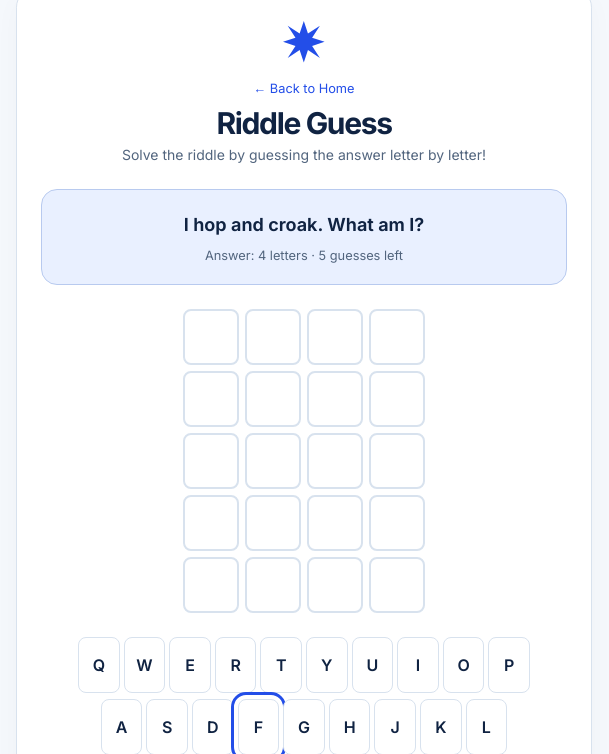
it: Riddle Guess keyboard integration › supports physical letters after choosing an on-screen key
(page scrolled)
Click the button "F".
click(258, 727)  # box [238,699,279,753]
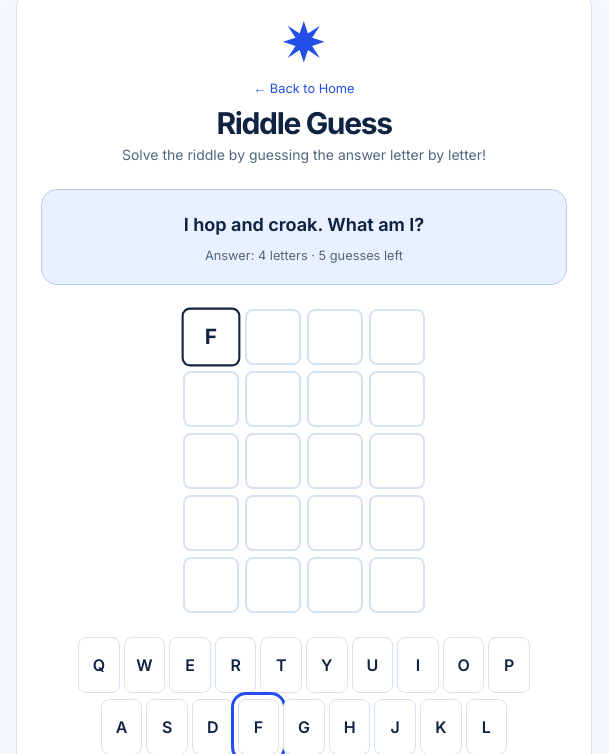
Press R in the button "F", box [238,699,279,753]
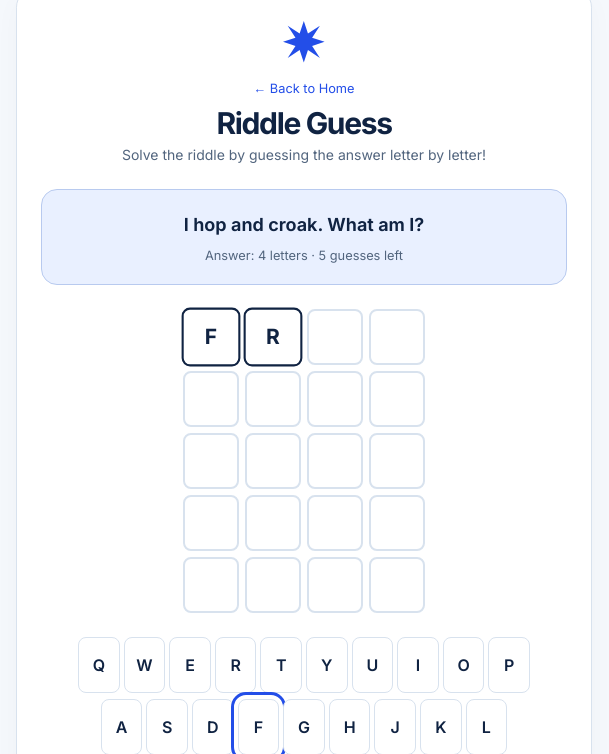
Press O in the button "F", box [238,699,279,753]
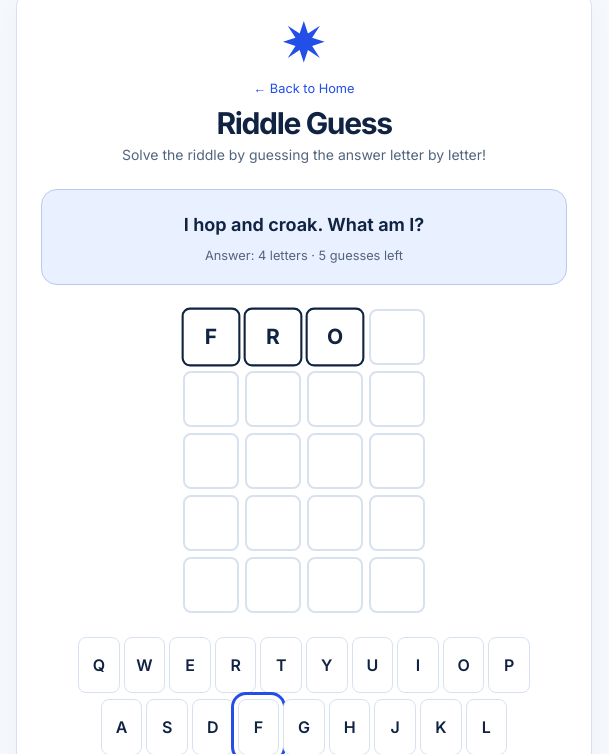
Press G in the button "F", box [238,699,279,753]
(page scrolled)
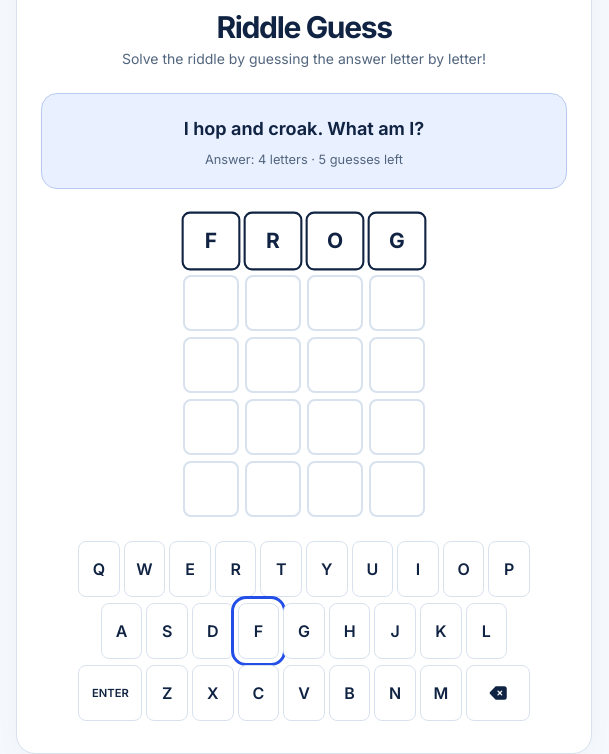
Click the button with aria-label "Submit guess".
click(110, 693)  # box [78,665,142,721]
(page scrolled)
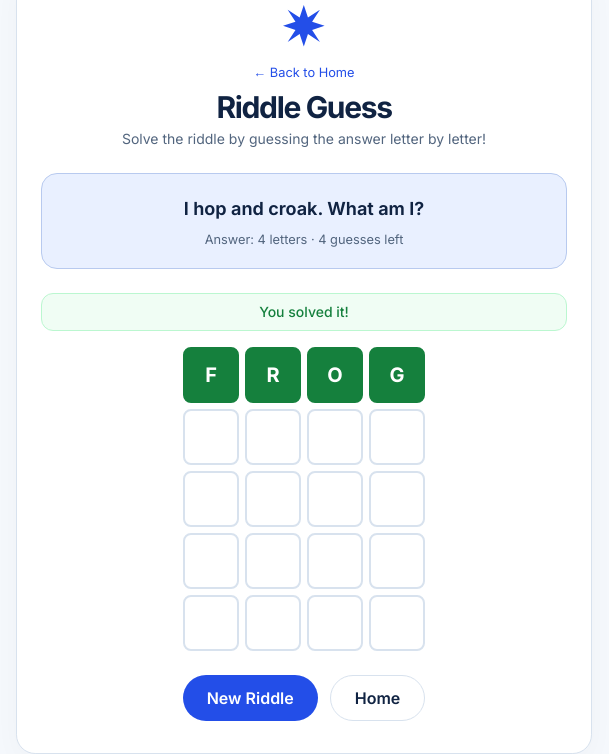
Expected: the text "You solved it!" is shown, [41,293,567,331]
